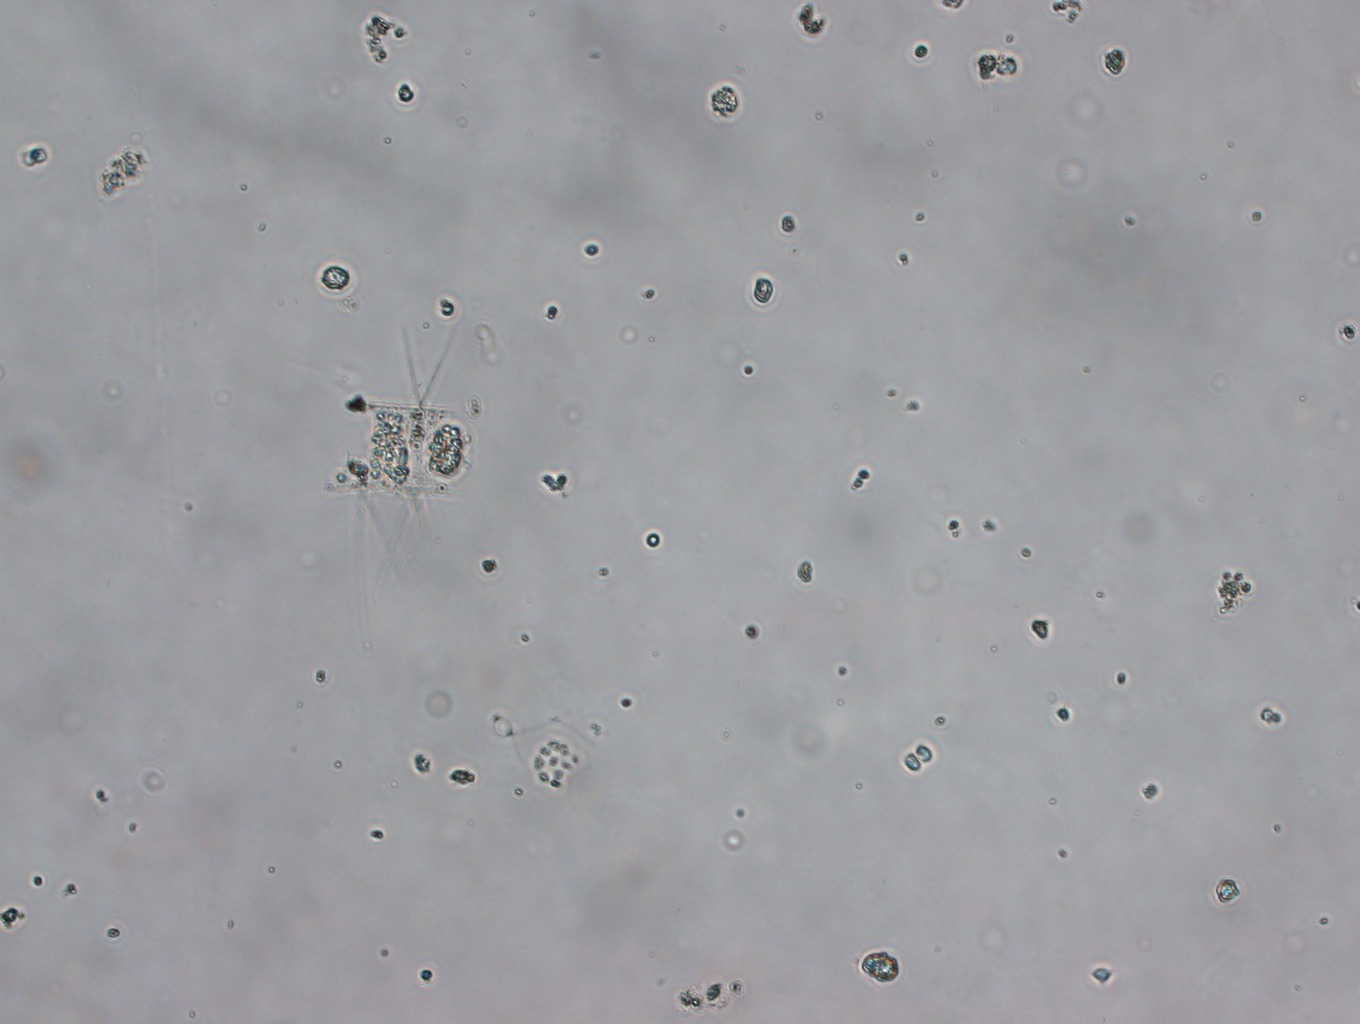chaetoceros: (310, 325, 510, 577)
